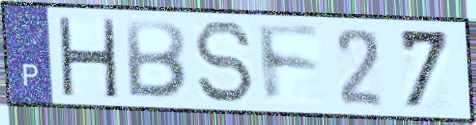2: (334, 26, 385, 110)
7: (398, 27, 452, 111)
B: (123, 18, 189, 101)
F: (254, 21, 325, 107)
H: (54, 14, 120, 100)
S: (191, 19, 256, 107)
